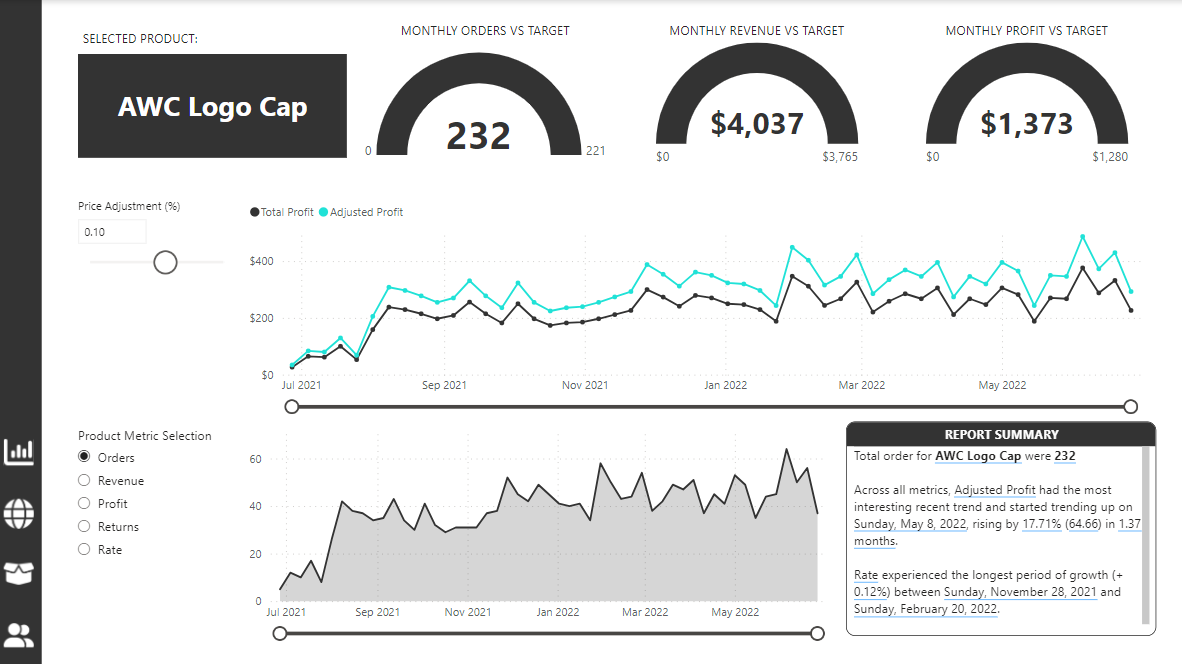

This screenshot's page, from the dashboard's own definition file:
{"tool":"powerbi","page":{"name":"Product Detail","canvas":[1280,720],"ordinal":2},"visuals":[{"type":"shape","title":"Left Nav Bacground","box":[0,0,45,720],"z":0},{"type":"gauge","title":"MONTHLY ORDERS VS TARGET","fields":{"Y":["Measure Table.Total Orders"],"MaxValue":["Measure Table.Order Target"]},"box":[383.5,22.7,279.9,165],"z":1000},{"type":"actionButton","box":[0,467.6,45.3,40.4],"z":1000,"group":"g1"},{"type":"gauge","title":"MONTHLY REVENUE VS TARGET","fields":{"Y":["Measure Table.Total Revenue"],"MaxValue":["Measure Table.Target Revenue"]},"box":[675.5,22.7,279.9,165],"z":2000},{"type":"actionButton","box":[0,533.9,45.3,40.4],"z":2000,"group":"g1"},{"type":"gauge","title":"MONTHLY PROFIT VS TARGET","fields":{"Y":["Measure Table.Total Profit"],"MaxValue":["Measure Table.Profit Target"]},"box":[967.6,22.7,279.9,165],"z":3000},{"type":"actionButton","box":[0,598.7,45.3,40.4],"z":3000,"group":"g1"},{"type":"lineChart","title":"PROFIT TRENDING","fields":{"Category":["Calendar Lookup.Date Hierarchy.Start of Year","Calendar Lookup.Date Hierarchy.Start of Month","Calendar Lookup.Date Hierarchy.Start of Week","Calendar Lookup.Date Hierarchy.Date"],"Y":["Measure Table.Total Profit","Measure Table.Adjustment Profit"]},"box":[263.7,208.7,987,241.1],"z":4000},{"type":"actionButton","box":[0,665,45.3,40.4],"z":4000,"group":"g1"},{"type":"areaChart","title":"RETURNS TRENDING","fields":{"Y":["Measure Table.Total Orders"],"Category":["Calendar Lookup.Date Hierarchy.Start of Year","Calendar Lookup.Date Hierarchy.Start of Month","Calendar Lookup.Date Hierarchy.Start of Week","Calendar Lookup.Date Hierarchy.Date"]},"box":[263.7,454.7,648.8,239.5],"z":5000},{"type":"card","fields":{"Values":["Min(Product Lookup.ProductName)"]},"box":[84,58,290,112],"z":6000},{"type":"textbox","box":[84.1,25.9,289.6,32.4],"z":7000},{"type":"group","id":"g1","title":"Navigation Buttons","box":[0,467.6,45.3,237.8],"z":8000},{"type":"slicer","fields":{"Values":["Price Adjustment (%) 2.Price Adjustment (%)"]},"box":[71.2,208.7,192.5,100.3],"z":9000},{"type":"slicer","fields":{"Values":["Product Metric Selection.Product Metric Selection"]},"box":[71.2,454.7,192.5,178],"z":10000},{"type":"textbox","title":"REPORT SUMMARY","box":[912.5,454.7,334.9,231.4],"z":11000}]}

Visuals, with their boxes on the page's 1280x720 design canvas (x1, y1, x2, y2). These are canvas units, not pixel positions in the 1182x664 screenshot, which may show the page scaled, cropped or inside an application window:
"Left Nav Bacground" shape: region(0, 0, 45, 720)
"MONTHLY ORDERS VS TARGET" gauge: region(384, 23, 663, 188)
actionButton: region(0, 468, 45, 508)
"MONTHLY REVENUE VS TARGET" gauge: region(676, 23, 955, 188)
actionButton: region(0, 534, 45, 574)
"MONTHLY PROFIT VS TARGET" gauge: region(968, 23, 1248, 188)
actionButton: region(0, 599, 45, 639)
"PROFIT TRENDING" lineChart: region(264, 209, 1251, 450)
actionButton: region(0, 665, 45, 705)
"RETURNS TRENDING" areaChart: region(264, 455, 912, 694)
card - Min(Product Lookup.ProductName): region(84, 58, 374, 170)
textbox: region(84, 26, 374, 58)
"Navigation Buttons" group: region(0, 468, 45, 705)
slicer - Price Adjustment (%) 2.Price Adjustment (%): region(71, 209, 264, 309)
slicer - Product Metric Selection.Product Metric Selection: region(71, 455, 264, 633)
"REPORT SUMMARY" textbox: region(912, 455, 1247, 686)
